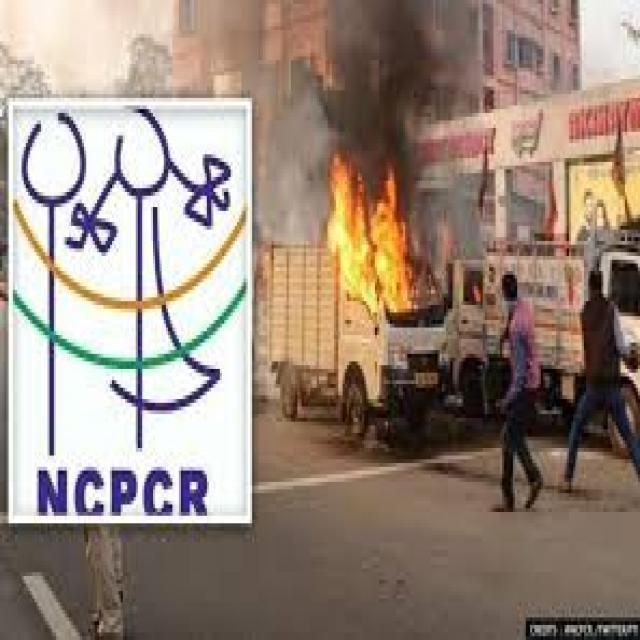Fire: (326, 152, 414, 316)
Smoke: (326, 0, 484, 154), (259, 60, 329, 246), (414, 156, 484, 254)
